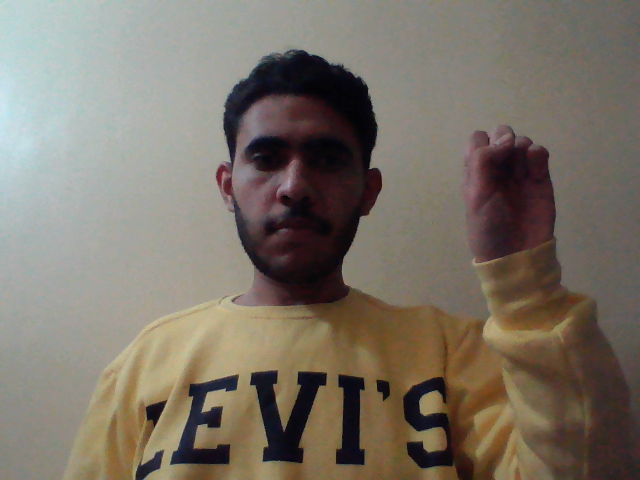S: (458, 117, 565, 274)
